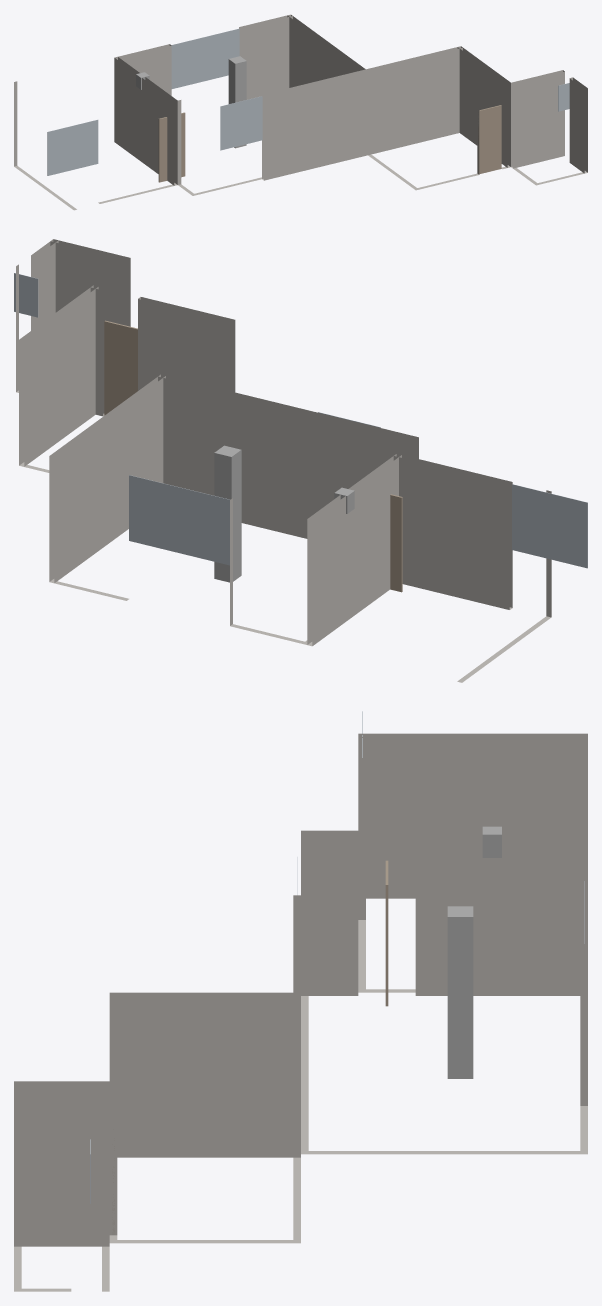
File: 全房模型_v3.glb
3 views of the same model, one above another, from view 1: azimuth 30°, elevation 25°; view 2: azimuth 150°, elevation 25°; view 3: azimuth 270°, elevation 25° (orthographic). The views are drawn at different scales.
Parts seen in each view (by area): view 1: world; view 2: world; view 3: world.
Part boxes in pixels (x1=…): world: x1=14, y1=14, x2=587, y2=210; world: x1=14, y1=239, x2=587, y2=682; world: x1=14, y1=711, x2=587, y2=1291.
Size of the model in its own units: 15800 by 2800 by 9000.
